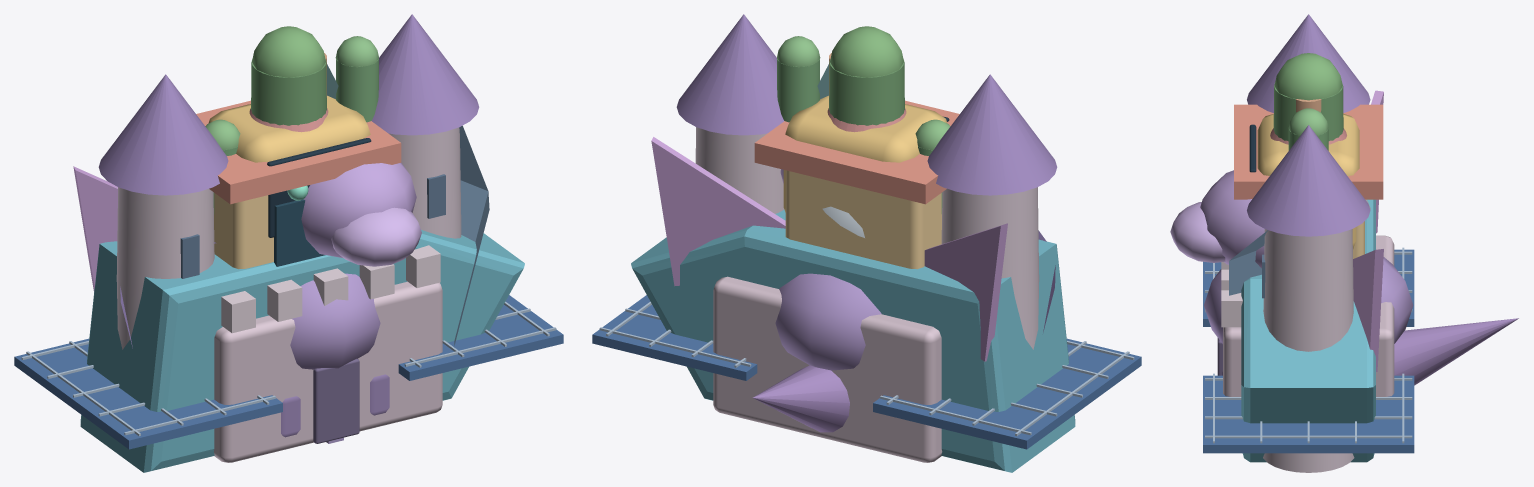
The model's file is prints.glb.
3 renders of one model, left to right at view 1: azimuth 30°, elevation 25°; view 2: azimuth 150°, elevation 25°; view 3: azimuth 270°, elevation 25°, orthographic. The views are drawn at different scales.
Parts seen in each view (by area): view 1: print_5, print_0, print_3, print_6, print_1, print_4, print_7; view 2: print_0, print_5, print_3, print_6, print_1, print_4; view 3: print_5, print_0, print_3, print_6, print_1, print_4, print_7.
Part boxes in pixels (<box>): print_5: <box>98,14,479,462</box>; print_0: <box>80,53,524,472</box>; print_3: <box>73,162,421,437</box>; print_6: <box>14,295,563,449</box>; print_1: <box>205,26,378,213</box>; print_4: <box>208,95,371,237</box>; print_7: <box>120,64,489,348</box>; print_0: <box>631,53,1075,472</box>; print_5: <box>676,14,1057,462</box>; print_3: <box>651,137,1007,432</box>; print_6: <box>592,206,1141,449</box>; print_1: <box>777,26,950,213</box>; print_4: <box>783,95,949,212</box>; print_5: <box>1217,14,1394,472</box>; print_0: <box>1234,99,1383,462</box>; print_3: <box>1170,90,1518,385</box>; print_6: <box>1203,199,1414,453</box>; print_1: <box>1273,53,1343,150</box>; print_4: <box>1249,114,1359,248</box>; print_7: <box>1229,230,1268,295</box>.
Bounding box in the file's own units: 1.27 × 1.05 × 0.9597.
